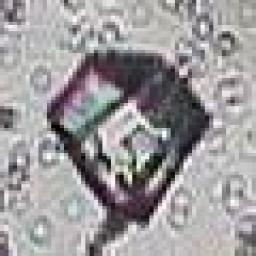crystals: (35, 50, 221, 224)
